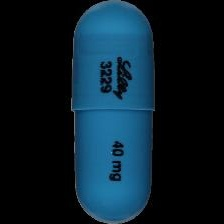0002-3229: (0, 0, 224, 224)
